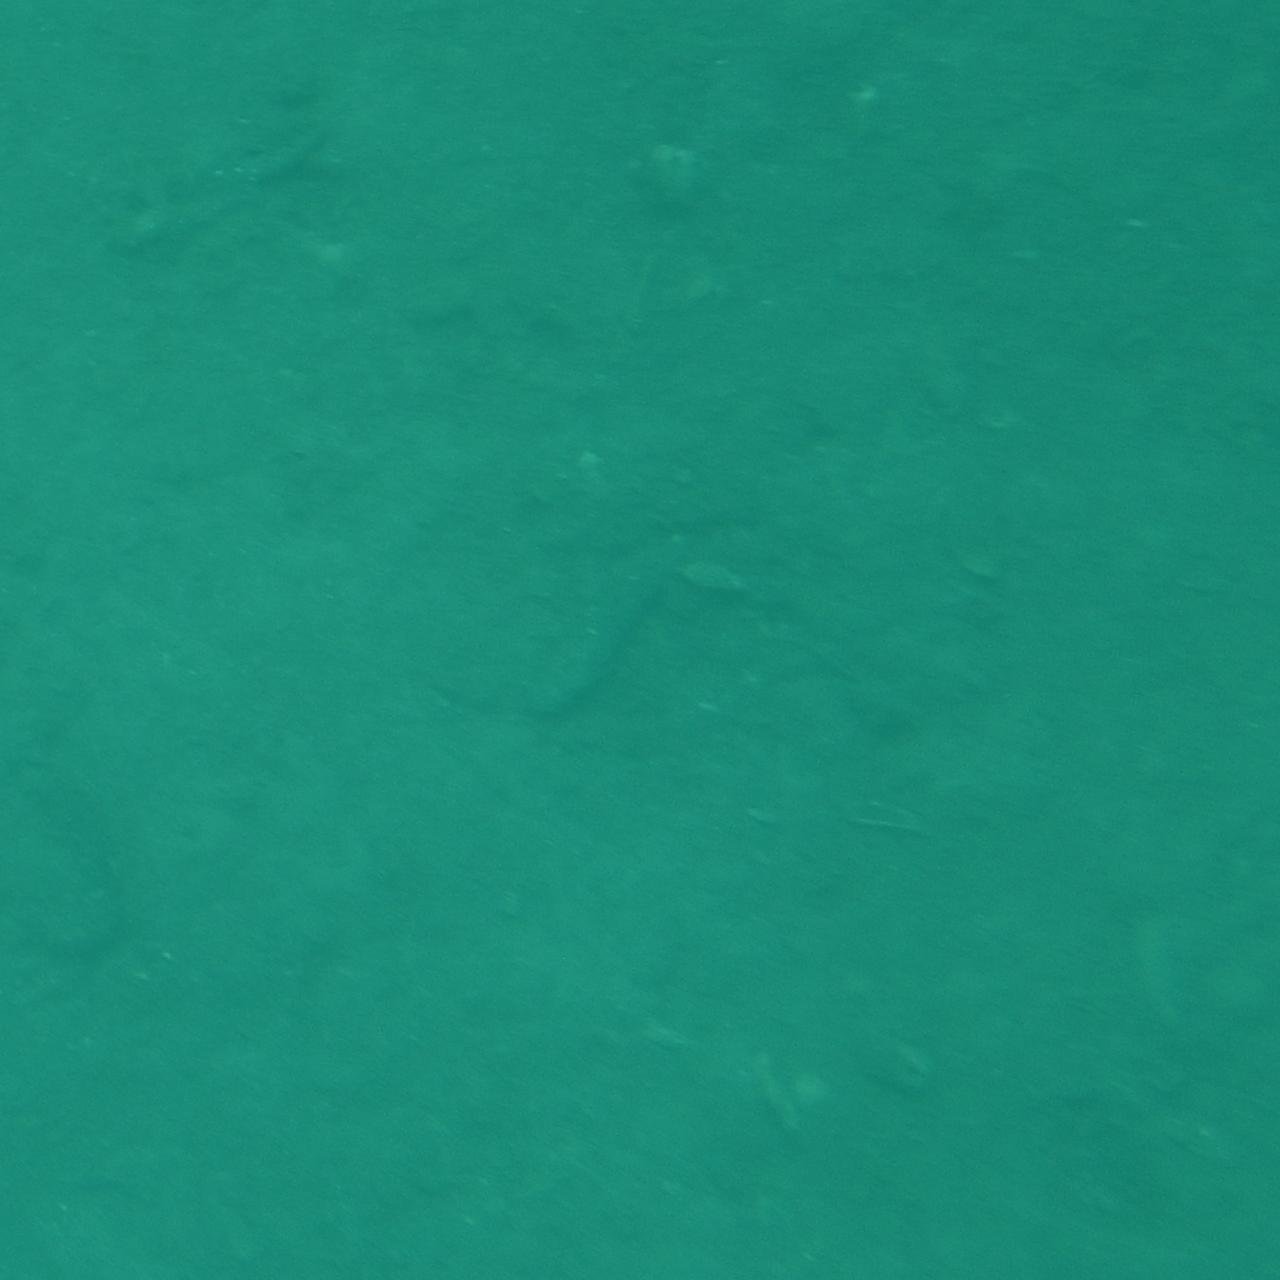Holothuria tubulosa: (550, 528, 730, 752)
